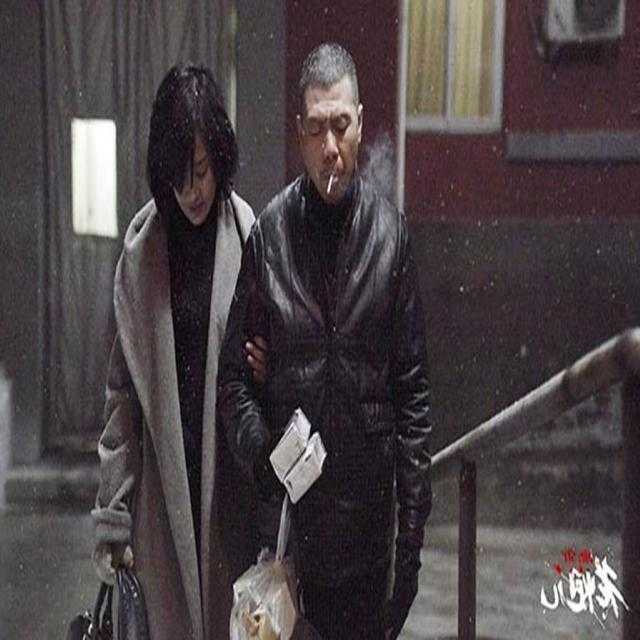smoking: (294, 34, 366, 207)
